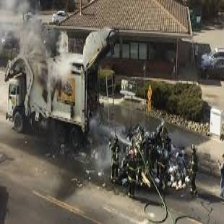smoke: (22, 24, 62, 79)
